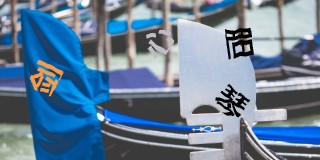剑: (28, 58, 65, 98)
心: (145, 28, 175, 58)
琴: (214, 83, 251, 118)
眉: (223, 26, 256, 60)
